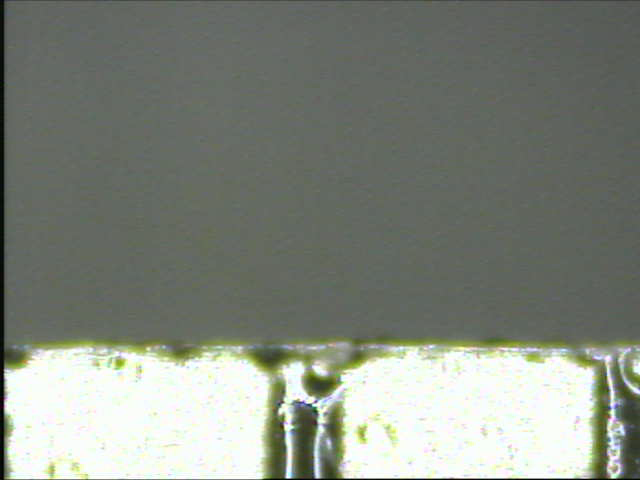line: (262, 356, 348, 477)
